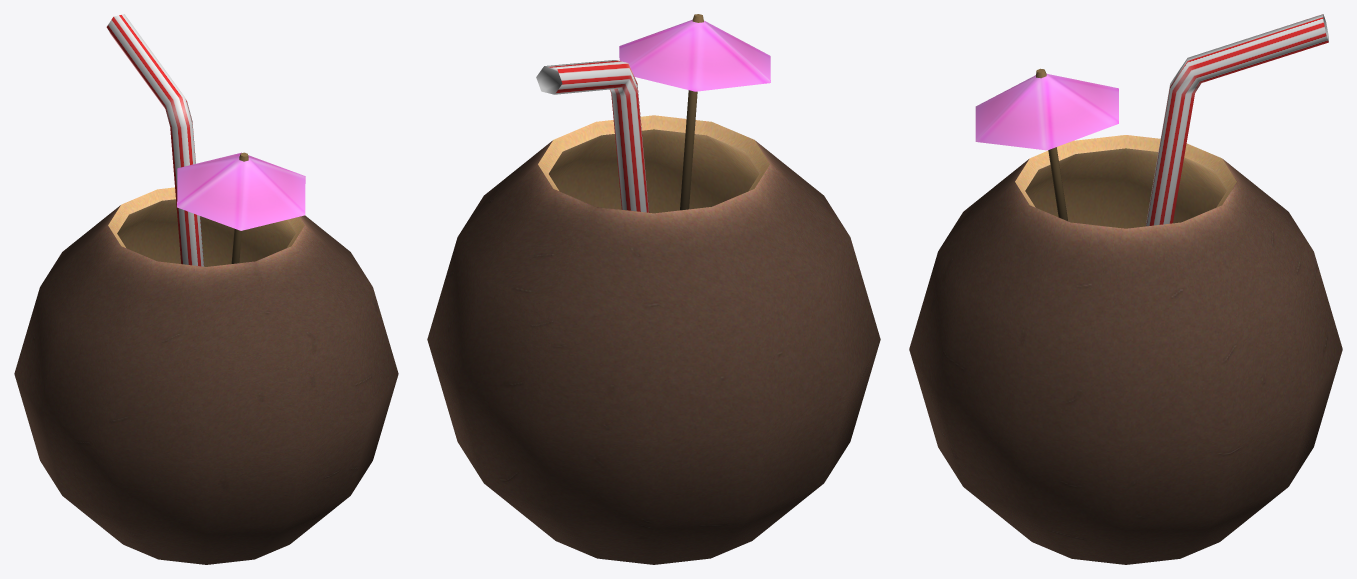
Rendered from coconut_juice.fbx.
3 views of the same model, side by side, from view 1: azimuth 30°, elevation 25°; view 2: azimuth 150°, elevation 25°; view 3: azimuth 270°, elevation 25° (orthographic). The views are drawn at different scales.
Parts seen in each view (by area): view 1: coconut_juice_mesh, little_umbrella_mesh, straw_mesh; view 2: coconut_juice_mesh, little_umbrella_mesh, straw_mesh; view 3: coconut_juice_mesh, little_umbrella_mesh, straw_mesh.
Boxes of the visible parts, box(x1,y1,x2,y2) form: coconut_juice_mesh: box(14, 187, 398, 564); little_umbrella_mesh: box(177, 152, 305, 263); straw_mesh: box(106, 14, 204, 266); coconut_juice_mesh: box(427, 115, 880, 564); little_umbrella_mesh: box(619, 14, 770, 210); straw_mesh: box(536, 60, 649, 212); coconut_juice_mesh: box(909, 135, 1342, 564); little_umbrella_mesh: box(975, 68, 1118, 221); straw_mesh: box(1146, 14, 1328, 226).
Size of the model in its own units: 0.1717 by 0.2309 by 0.1717.
